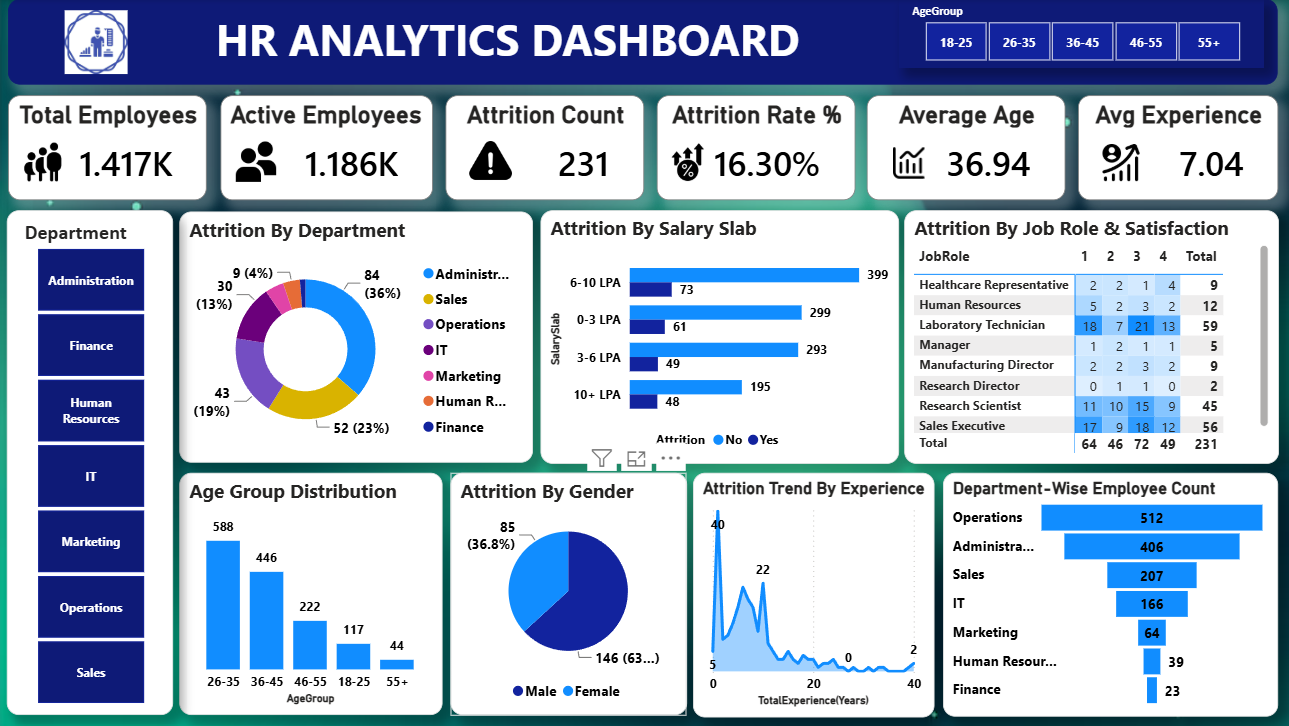

The dashboard page shown, as its layout file describes it:
{"tool":"powerbi","page":{"name":"Page 1","canvas":[1280,720],"ordinal":0},"visuals":[{"type":"textbox","box":[9.9,0,1258,85],"z":0},{"type":"image","box":[64.4,11.1,65.6,63.1],"z":1000},{"type":"cardVisual","title":"Total Employees","fields":{"Data":["CountNonNull(HR_Analytics-4.EmpID)"]},"box":[10,95,197,104],"z":2000},{"type":"cardVisual","title":"Active Employees","fields":{"Data":["CountNonNull(HR_Analytics-4.EmployeeCount)"]},"box":[220.4,95.3,210.5,104],"z":3000},{"type":"cardVisual","title":"Attrition Count","fields":{"Data":["Sum(HR_Analytics-4.AttritionCount)"]},"box":[443.3,95.3,196.9,104],"z":4000},{"type":"cardVisual","title":"Attrition Rate %","fields":{"Data":["HR_Analytics-4.Attrition Rate %"]},"box":[652.5,95.3,196.9,104],"z":5000},{"type":"cardVisual","title":"Average Age","fields":{"Data":["Avg(HR_Analytics-4.Age)"]},"box":[860.5,95.3,196.9,104],"z":6000},{"type":"cardVisual","title":"Avg Experience","fields":{"Data":["Avg(HR_Analytics-4.YearsatCompany)"]},"box":[1069.8,95.3,198.1,104],"z":7000},{"type":"image","box":[26,137.4,38.4,48.3],"z":8000},{"type":"image","box":[1090.8,143.6,43.3,37.1],"z":9000},{"type":"image","box":[231.5,141.1,48.3,39.6],"z":10000},{"type":"image","box":[464.3,138.7,47,42.1],"z":11000},{"type":"image","box":[886.5,143.6,31,37.1],"z":12000},{"type":"image","box":[662.4,142.4,42.1,38.4],"z":13000},{"type":"donutChart","title":"Attrition By Department","fields":{"Category":["HR_Analytics-4.Department"],"Y":["Sum(HR_Analytics-4.AttritionCount)"]},"box":[179,210,350,249],"z":14000},{"type":"clusteredBarChart","title":"Attrition By Salary Slab","fields":{"Category":["HR_Analytics-4.SalarySlab"],"Y":["CountNonNull(HR_Analytics-4.EmpID)"],"Series":["HR_Analytics-4.Attrition"]},"box":[537,209,355,251],"z":15000},{"type":"pivotTable","title":"Attrition By Job Role & Satisfaction","fields":{"Rows":["HR_Analytics-4.JobRole"],"Values":["Sum(HR_Analytics-4.AttritionCount)"],"Columns":["HR_Analytics-4.JobSatisfaction"]},"box":[898,209,371,251],"z":16000},{"type":"columnChart","title":"Age Group Distribution","fields":{"Category":["HR_Analytics-4.AgeGroup"],"Y":["Sum(HR_Analytics-4.EmployeeCount)"]},"box":[179,469,261,240],"z":17000},{"type":"pieChart","title":"Attrition By Gender","fields":{"Category":["HR_Analytics-4.Gender"],"Y":["Sum(HR_Analytics-4.AttritionCount)"]},"box":[448,469,234,240],"z":18000},{"type":"areaChart","title":"Attrition Trend By Experience","fields":{"Category":["HR_Analytics-4.TotalExperience(Years)"],"Y":["Sum(HR_Analytics-4.AttritionCount)"]},"box":[689,469,239,242],"z":19000},{"type":"funnel","title":"Department-Wise Employee  Count","fields":{"Category":["HR_Analytics-4.Department"],"Y":["CountNonNull(HR_Analytics-4.EmpID)"]},"box":[936,469.3,331.8,241.4],"z":20000},{"type":"slicer","fields":{"Values":["HR_Analytics-4.Department"]},"box":[9,209,165,500],"z":21000},{"type":"slicer","fields":{"Values":["HR_Analytics-4.AgeGroup"]},"box":[892.7,0,361.5,68.1],"z":21001}]}

Visuals, with their boxes in screenshot pixels (x1, y1, x2, y2), scaled from the page's 1280x720 canvas onto the 1289x726 screenshot:
textbox: <bbox>10, 0, 1277, 86</bbox>
image: <bbox>65, 11, 131, 75</bbox>
"Total Employees" cardVisual: <bbox>10, 96, 208, 201</bbox>
"Active Employees" cardVisual: <bbox>222, 96, 434, 201</bbox>
"Attrition Count" cardVisual: <bbox>446, 96, 645, 201</bbox>
"Attrition Rate %" cardVisual: <bbox>657, 96, 855, 201</bbox>
"Average Age" cardVisual: <bbox>867, 96, 1065, 201</bbox>
"Avg Experience" cardVisual: <bbox>1077, 96, 1277, 201</bbox>
image: <bbox>26, 139, 65, 187</bbox>
image: <bbox>1098, 145, 1142, 182</bbox>
image: <bbox>233, 142, 282, 182</bbox>
image: <bbox>468, 140, 515, 182</bbox>
image: <bbox>893, 145, 924, 182</bbox>
image: <bbox>667, 144, 709, 182</bbox>
"Attrition By Department" donutChart: <bbox>180, 212, 533, 463</bbox>
"Attrition By Salary Slab" clusteredBarChart: <bbox>541, 211, 898, 464</bbox>
"Attrition By Job Role & Satisfaction" pivotTable: <bbox>904, 211, 1278, 464</bbox>
"Age Group Distribution" columnChart: <bbox>180, 473, 443, 715</bbox>
"Attrition By Gender" pieChart: <bbox>451, 473, 687, 715</bbox>
"Attrition Trend By Experience" areaChart: <bbox>694, 473, 935, 717</bbox>
"Department-Wise Employee  Count" funnel: <bbox>943, 473, 1277, 717</bbox>
slicer - HR_Analytics-4.Department: <bbox>9, 211, 175, 715</bbox>
slicer - HR_Analytics-4.AgeGroup: <bbox>899, 0, 1263, 69</bbox>
